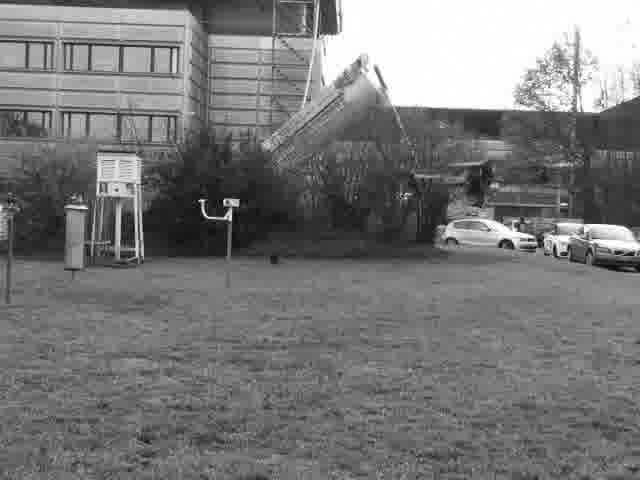drone: (405, 144, 543, 201)
